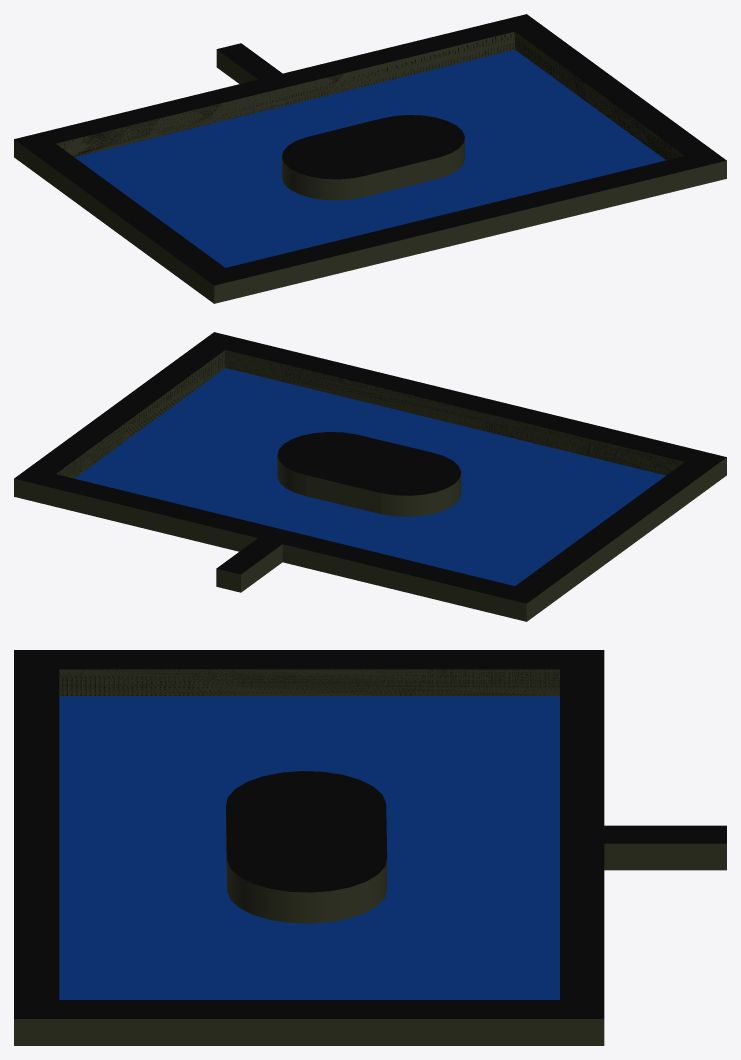
The model's file is ORBAT_ORBAT_I_REGT.dae.
3 renders of one model, top to bottom at view 1: azimuth 30°, elevation 25°; view 2: azimuth 150°, elevation 25°; view 3: azimuth 270°, elevation 25°, orthographic. The views are drawn at different scales.
Visible parts, largest first — view 1: SketchUp (×6); view 2: SketchUp (×6); view 3: SketchUp (×6).
Part boxes in pixels (<box>): SketchUp (×6): <box>14,14,726,303</box>; SketchUp (×6): <box>14,332,726,621</box>; SketchUp (×6): <box>14,650,726,1045</box>.
Size of the model in its own units: 44.14 by 36.05 by 1.73.
